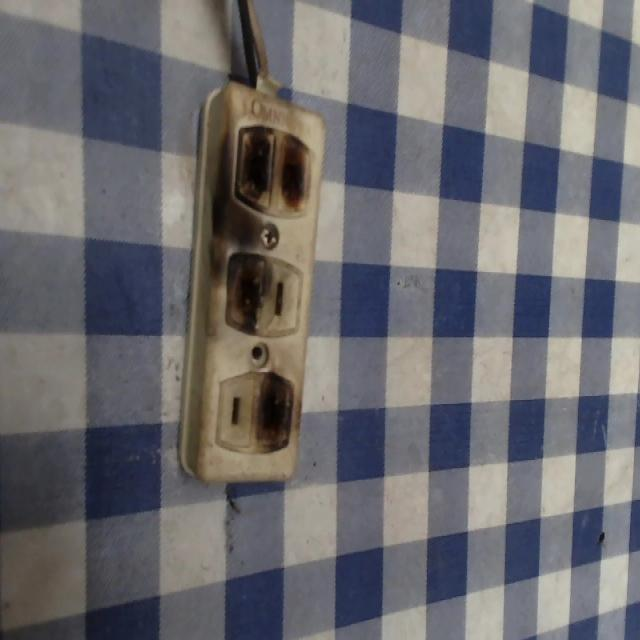-: (231, 120, 315, 224), (221, 245, 272, 336), (252, 367, 295, 448)
